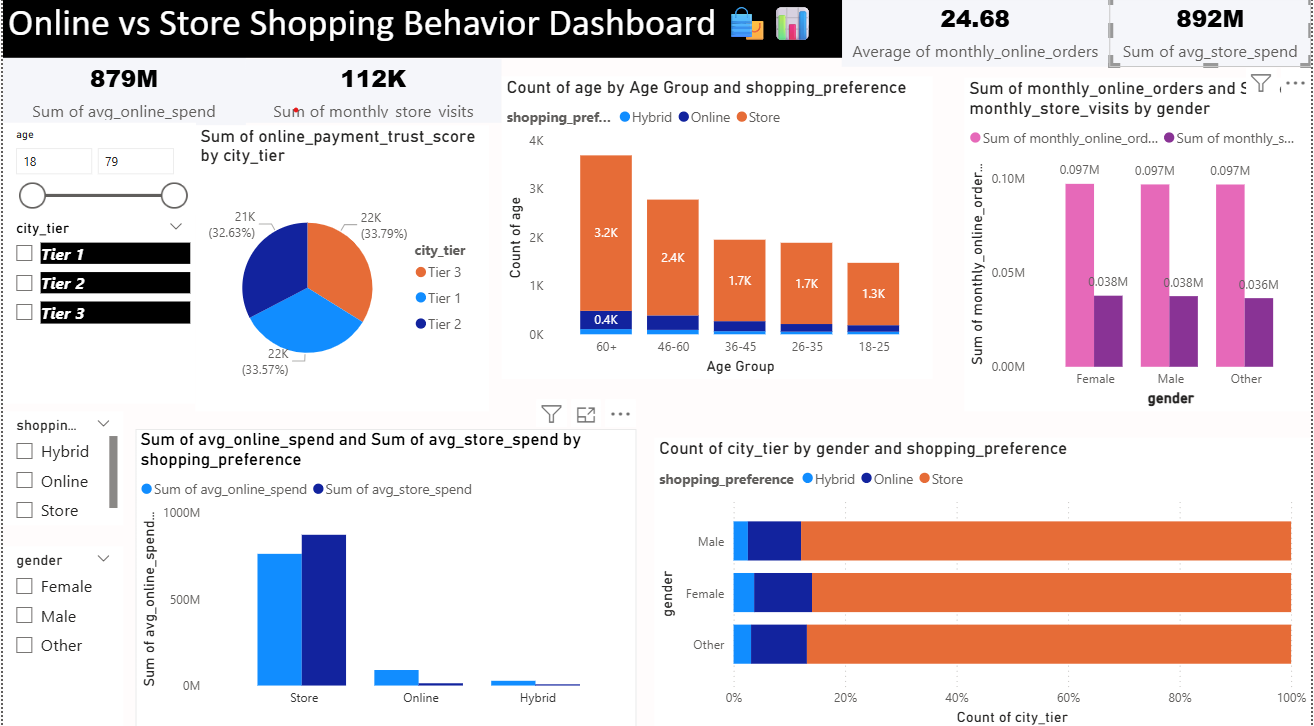

The dashboard page shown, as its layout file describes it:
{"tool":"powerbi","page":{"name":"Dashboard","canvas":[1280,720],"ordinal":0},"visuals":[{"type":"card","fields":{"Values":["Sum(online vs store shopping dataset.avg_online_spend)"]},"box":[0,59.9,237.2,68.5],"z":0},{"type":"card","fields":{"Values":["Sum(online vs store shopping dataset.avg_store_spend)"]},"box":[1082.2,0,198.1,70.9],"z":1000},{"type":"card","fields":{"Values":["Avg(online vs store shopping dataset.monthly_online_orders)"]},"box":[820.5,0,261.7,70.9],"z":2000},{"type":"card","fields":{"Values":["Sum(online vs store shopping dataset.monthly_store_visits)"]},"box":[237.2,63.6,250.7,62.4],"z":3000},{"type":"slicer","fields":{"Values":["online vs store shopping dataset.gender"]},"box":[0,540.5,117.4,179.8],"z":4000},{"type":"slicer","fields":{"Values":["online vs store shopping dataset.city_tier"]},"box":[0,215.2,188.3,185.9],"z":5000},{"type":"slicer","fields":{"Values":["online vs store shopping dataset.age"]},"box":[0,126,188.3,89.3],"z":6000},{"type":"slicer","fields":{"Values":["online vs store shopping dataset.shopping_preference"]},"box":[0,408.4,117.4,111.3],"z":7000},{"type":"clusteredColumnChart","fields":{"Category":["online vs store shopping dataset.gender"],"Y":["Sum(online vs store shopping dataset.monthly_online_orders)","Sum(online vs store shopping dataset.monthly_store_visits)"]},"box":[940.4,81.9,339.9,326.5],"z":8000},{"type":"columnChart","fields":{"Category":["online vs store shopping dataset.Age Group"],"Series":["online vs store shopping dataset.shopping_preference"],"Y":["CountNonNull(online vs store shopping dataset.age)"]},"box":[487.9,80.7,421.9,295.9],"z":9000},{"type":"hundredPercentStackedBarChart","fields":{"Series":["online vs store shopping dataset.shopping_preference"],"Y":["CountNonNull(online vs store shopping dataset.city_tier)"],"Category":["online vs store shopping dataset.gender"]},"box":[637.1,434.1,643.2,286.1],"z":10000},{"type":"pieChart","fields":{"Category":["online vs store shopping dataset.city_tier"],"Y":["Sum(online vs store shopping dataset.online_payment_trust_score)"]},"box":[188.3,128.4,287.4,280],"z":11000},{"type":"clusteredColumnChart","fields":{"Category":["online vs store shopping dataset.shopping_preference"],"Y":["Sum(online vs store shopping dataset.avg_online_spend)","Sum(online vs store shopping dataset.avg_store_spend)"]},"box":[129.6,425.5,490.4,294.7],"z":12000},{"type":"textbox","box":[0,0,820.5,62.4],"z":13000}]}

Visuals, with their boxes in screenshot pixels (x1, y1, x2, y2), scaled from the page's 1280x720 canvas onto the 1314x726 screenshot:
card - Sum(online vs store shopping dataset.avg_online_spend): [left=0, top=60, right=244, bottom=129]
card - Sum(online vs store shopping dataset.avg_store_spend): [left=1111, top=0, right=1313, bottom=71]
card - Avg(online vs store shopping dataset.monthly_online_orders): [left=842, top=0, right=1111, bottom=71]
card - Sum(online vs store shopping dataset.monthly_store_visits): [left=244, top=64, right=501, bottom=127]
slicer - online vs store shopping dataset.gender: [left=0, top=545, right=121, bottom=725]
slicer - online vs store shopping dataset.city_tier: [left=0, top=217, right=193, bottom=404]
slicer - online vs store shopping dataset.age: [left=0, top=127, right=193, bottom=217]
slicer - online vs store shopping dataset.shopping_preference: [left=0, top=412, right=121, bottom=524]
clusteredColumnChart - online vs store shopping dataset.gender x Sum(online vs store shopping dataset.monthly_online_orders): [left=965, top=83, right=1313, bottom=412]
columnChart - online vs store shopping dataset.Age Group x online vs store shopping dataset.shopping_preference: [left=501, top=81, right=934, bottom=380]
hundredPercentStackedBarChart - online vs store shopping dataset.shopping_preference x CountNonNull(online vs store shopping dataset.city_tier): [left=654, top=438, right=1313, bottom=725]
pieChart - online vs store shopping dataset.city_tier x Sum(online vs store shopping dataset.online_payment_trust_score): [left=193, top=129, right=488, bottom=412]
clusteredColumnChart - online vs store shopping dataset.shopping_preference x Sum(online vs store shopping dataset.avg_online_spend): [left=133, top=429, right=636, bottom=725]
textbox: [left=0, top=0, right=842, bottom=63]
